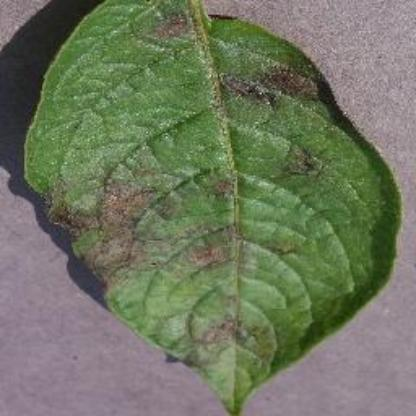Late-Blight: (23, 1, 402, 413)
